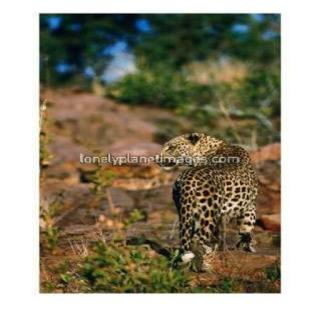Leopard: (153, 118, 250, 280)
